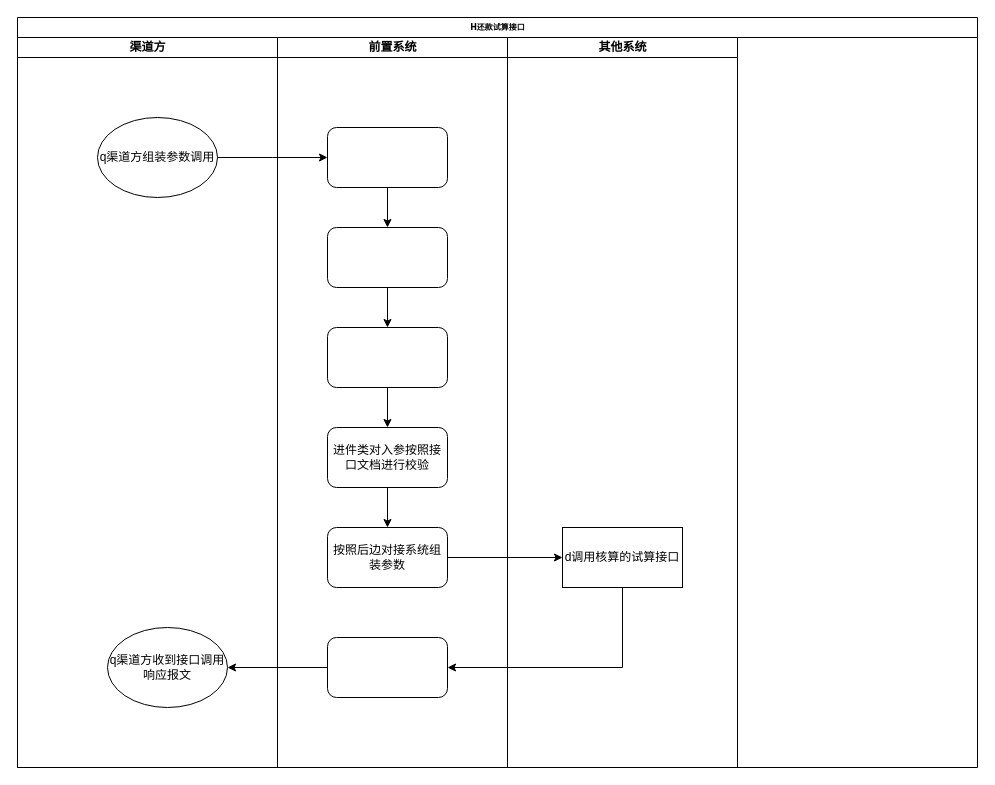
Image size: 995x785. Some labels were removed from this diagram. The shapes that lost their labels are listed below. From the top down, each one's centre as x and y in pixels, then its label:
At point (387, 157): "对请求信息先解密操作".
At point (387, 257): "对入参的签名进行验签操作".
At point (387, 357): "根据报文的channlId和serviceId信息路由到对应的接口类".
At point (387, 667): "q前置收到核算响应信息组装响应给渠道方的报文".
